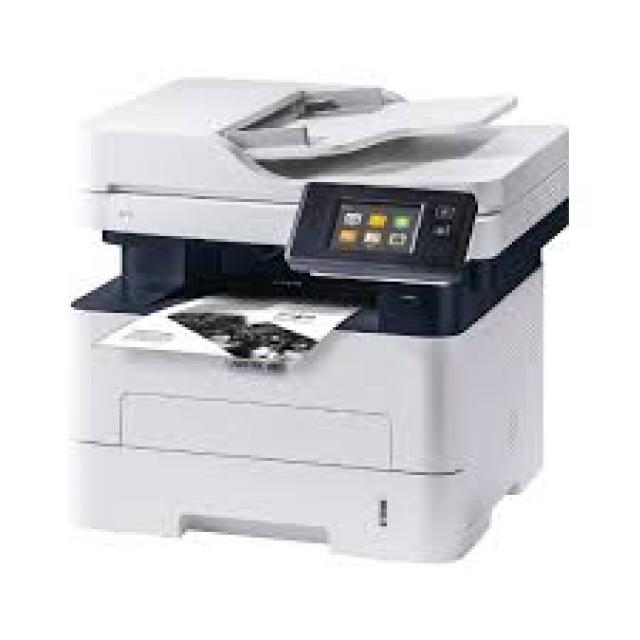printer: (30, 36, 633, 598)
